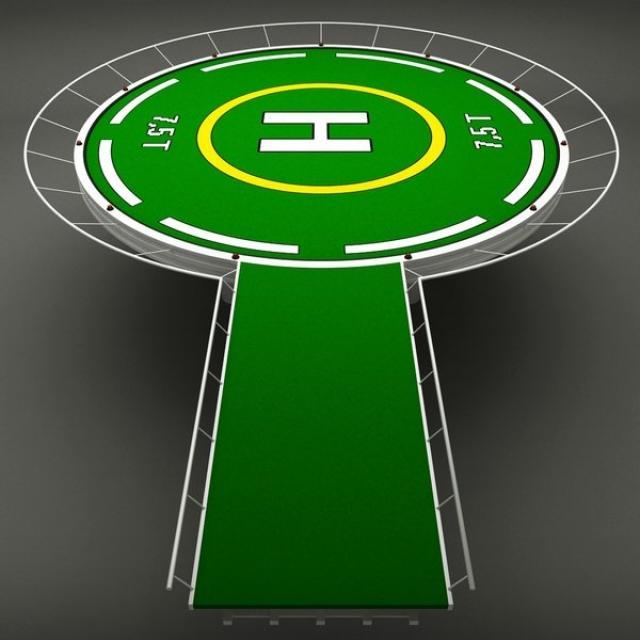helipad: (191, 77, 448, 199)
